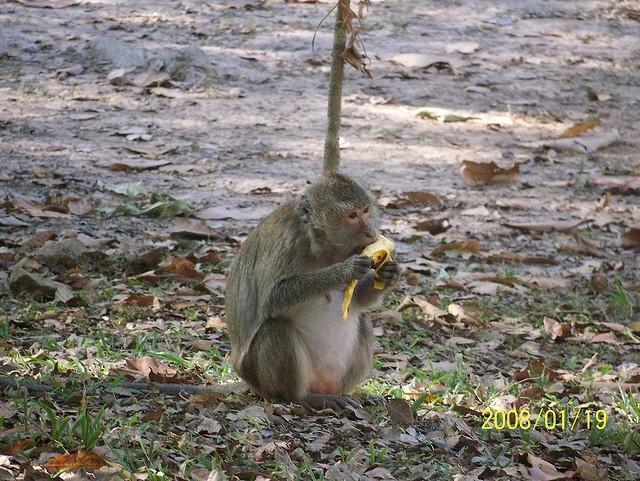banana: (342, 233, 396, 322)
